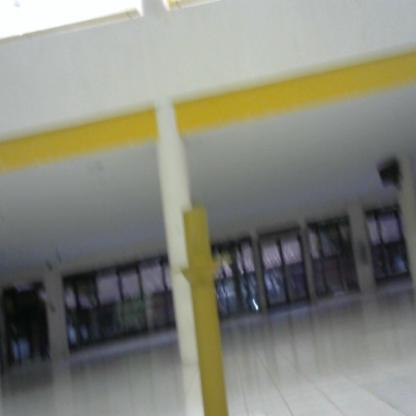pole: (163, 197, 246, 416)
